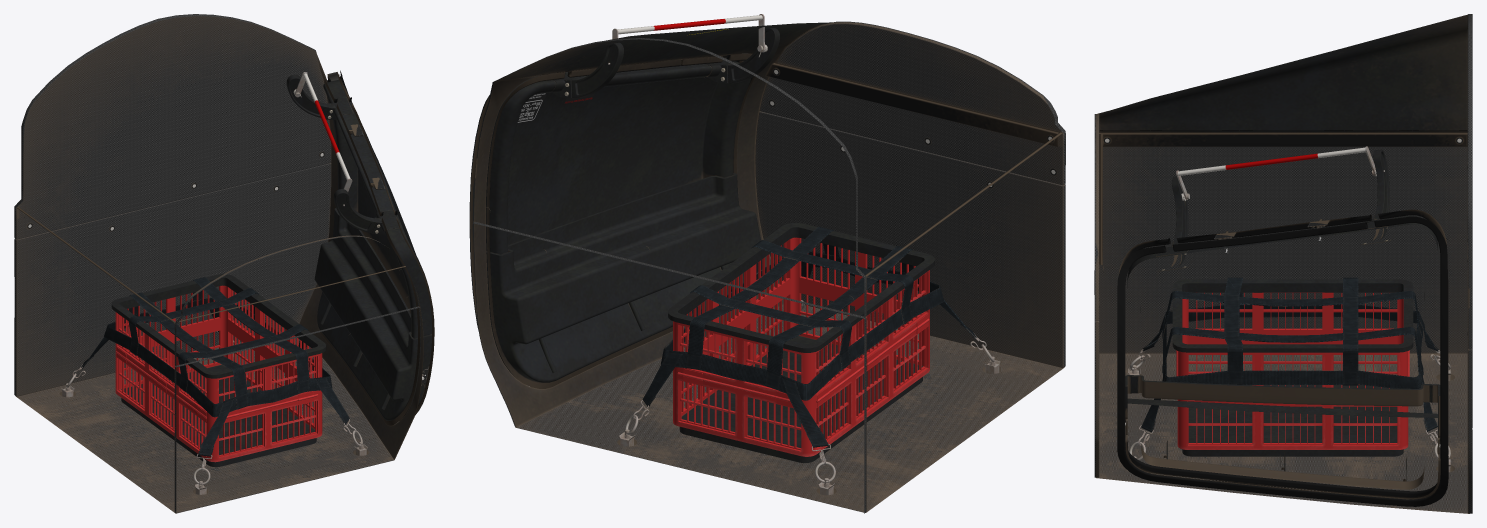
File: Tecnam2012_Front_Baggage_LOD00.gltf
3 renders of one model, left to right at view 1: azimuth 30°, elevation 25°; view 2: azimuth 150°, elevation 25°; view 3: azimuth 270°, elevation 25°, orthographic. The views are drawn at different scales.
Visible parts, largest first — view 1: FB_Cube.211, FB_Cube.212, FB_Cube.184, FB_Cube.216, FB_Cube.188, FB_Cube.233, FB_Cube.044, FB_Cube.183, FB_Cube.215, FB_Cube.205, FB_Circle.512, Front_baggage_handle_inside (+2 smaller); view 2: FB_Cube.184, FB_Cube.215, FB_Cube.216, FB_Cube.188, FB_Cube.044, FB_Cube.213, FB_Cube.233, FB_Cube.205, FB_Cube.183, FB_Cube.212, FB_Cube.211, FB_Circle.509 (+2 smaller); view 3: FB_Cube.184, FB_Cube.216, FB_Cube.183, FB_Cube.233, FB_Cube.188, FB_Cube.205, FB_Cube.044, FB_Cube.211, Front_baggage_handle_inside, FB_Cube.213, FB_Cube.212, FB_Cube.215 (+2 smaller).
Part boxes in pixels (bbox=[...]): FB_Cube.211: bbox=[14, 14, 331, 239]; FB_Cube.212: bbox=[14, 163, 331, 396]; FB_Cube.184: bbox=[16, 55, 423, 513]; FB_Cube.216: bbox=[111, 274, 326, 467]; FB_Cube.188: bbox=[314, 208, 431, 420]; FB_Cube.233: bbox=[81, 277, 349, 456]; FB_Cube.044: bbox=[323, 74, 434, 414]; FB_Cube.183: bbox=[319, 70, 434, 425]; FB_Cube.215: bbox=[174, 306, 420, 513]; FB_Cube.205: bbox=[17, 207, 405, 323]; FB_Circle.512: bbox=[333, 189, 381, 232]; Front_baggage_handle_inside: bbox=[294, 72, 352, 191]; FB_Cube.184: bbox=[473, 22, 1064, 512]; FB_Cube.215: bbox=[755, 111, 1065, 367]; FB_Cube.216: bbox=[668, 223, 934, 463]; FB_Cube.188: bbox=[486, 173, 760, 382]; FB_Cube.044: bbox=[469, 56, 750, 331]; FB_Cube.213: bbox=[759, 21, 1065, 185]; FB_Cube.233: bbox=[642, 226, 976, 447]; FB_Cube.205: bbox=[766, 63, 1062, 276]; FB_Cube.183: bbox=[470, 53, 755, 388]; FB_Cube.212: bbox=[473, 221, 866, 513]; FB_Cube.211: bbox=[492, 38, 866, 317]; FB_Circle.509: bbox=[565, 42, 623, 98]; FB_Cube.184: bbox=[1096, 14, 1469, 513]; FB_Cube.216: bbox=[1172, 279, 1413, 456]; FB_Cube.183: bbox=[1117, 209, 1448, 506]; FB_Cube.233: bbox=[1141, 277, 1438, 432]; FB_Cube.188: bbox=[1125, 375, 1440, 499]; FB_Cube.205: bbox=[1099, 132, 1467, 265]; FB_Cube.044: bbox=[1127, 216, 1437, 489]; FB_Cube.211: bbox=[1467, 14, 1472, 349]; Front_baggage_handle_inside: bbox=[1176, 146, 1376, 199]; FB_Cube.213: bbox=[1094, 114, 1099, 320]; FB_Cube.212: bbox=[1467, 220, 1472, 513]; FB_Cube.215: bbox=[1094, 320, 1099, 477].
Size of what is drawn, in the model's own units: 0.9374 by 0.9414 by 0.7959.
